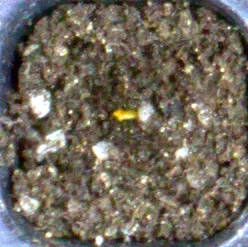chilli seed: (112, 109, 138, 120)
